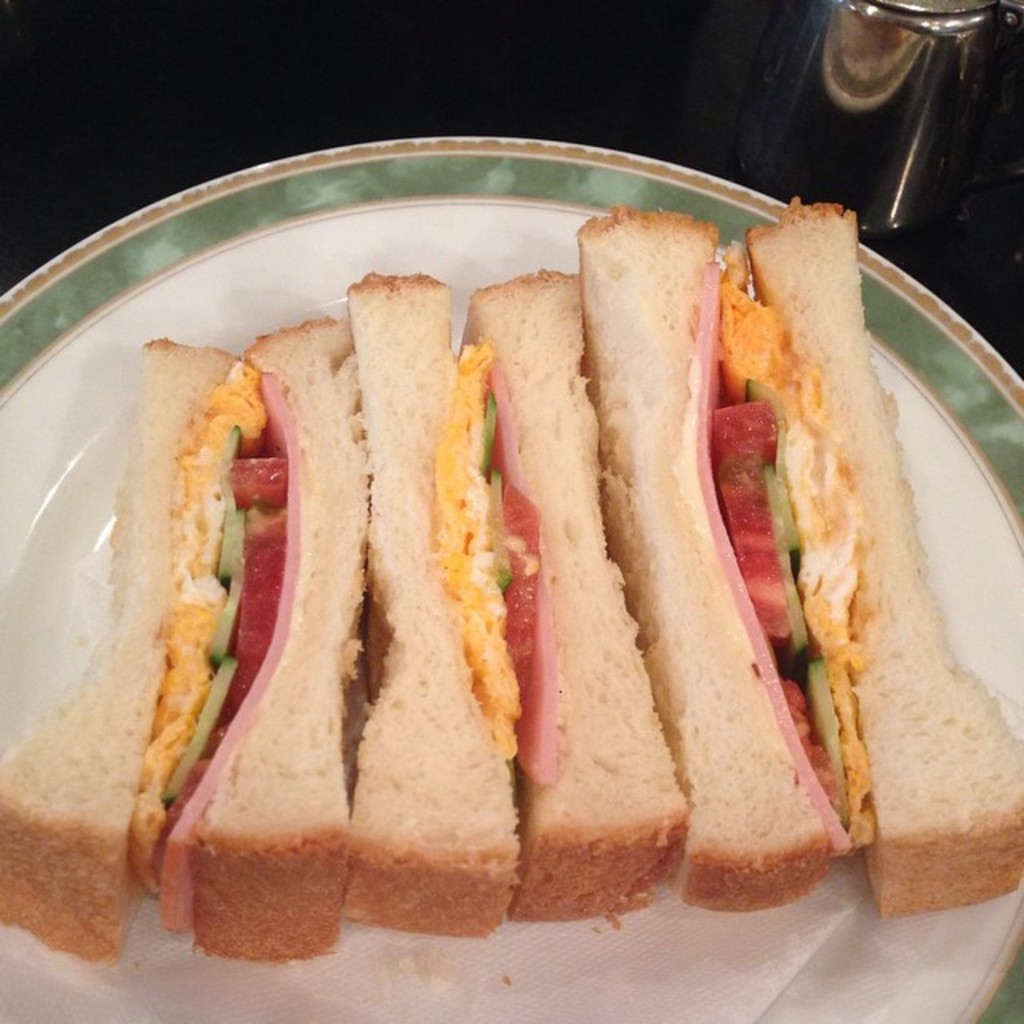sandwich: (579, 198, 1022, 918), (0, 317, 381, 971), (338, 267, 688, 933)
